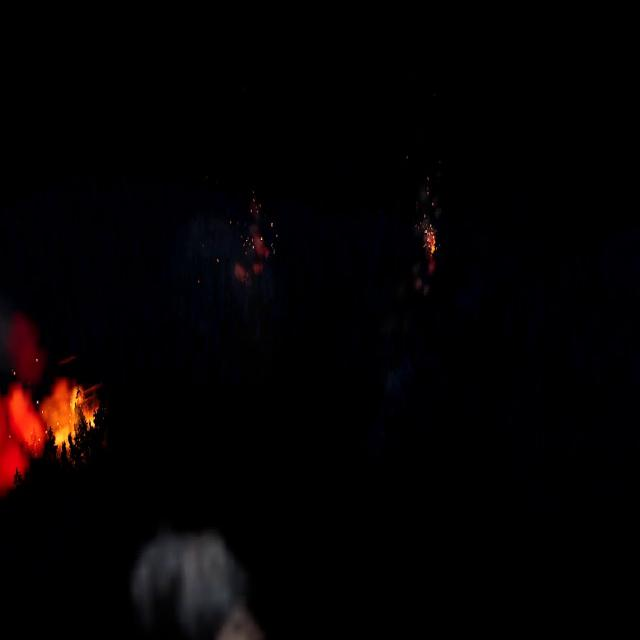fire: (40, 379, 100, 456), (423, 224, 438, 272)
smoke: (133, 524, 273, 638), (0, 295, 47, 552), (232, 218, 267, 286)
